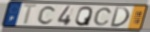4: (57, 5, 72, 27)
C: (36, 5, 58, 25), (92, 7, 113, 27)
D: (109, 6, 131, 28)
Q: (74, 6, 94, 27)
T: (21, 3, 40, 26)
